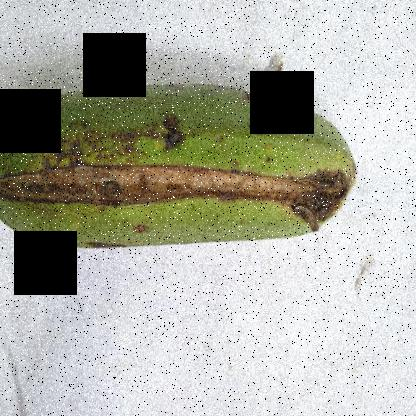rotten: (1, 69, 358, 252)
